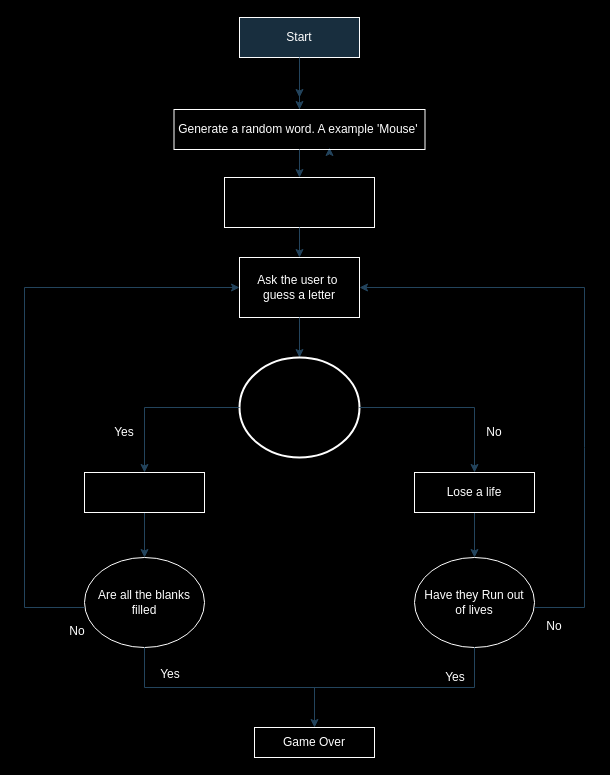
This 610x775 diagram has some shape labels left out. The shapes that lost their labels are listed below. From the top down, each one's centre as x and y in pixels, then its label:
point 299,202: Generate as many blanks as letters in word.
point 299,407: Is the guessed letter in the word
point 144,492: Replace the Blank with letter
